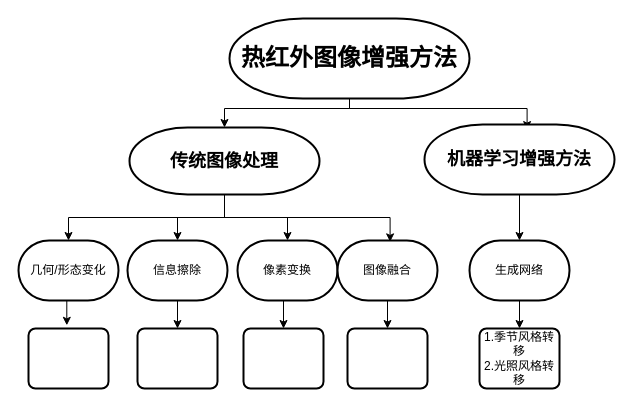
The diagram is 632 pixels wide and 406 high, and some of its shapes have lost their labels. Each missing label, with the centre of its shape:
1.噪声添加 2.饱和度和对比度调整: point (283, 358)
1.图像块擦除 2.图像块掩码 覆盖: point (177, 358)
1.旋转 2.缩放尺度: point (68, 358)
1.混式融合 2.先验目标 融合: point (387, 358)
